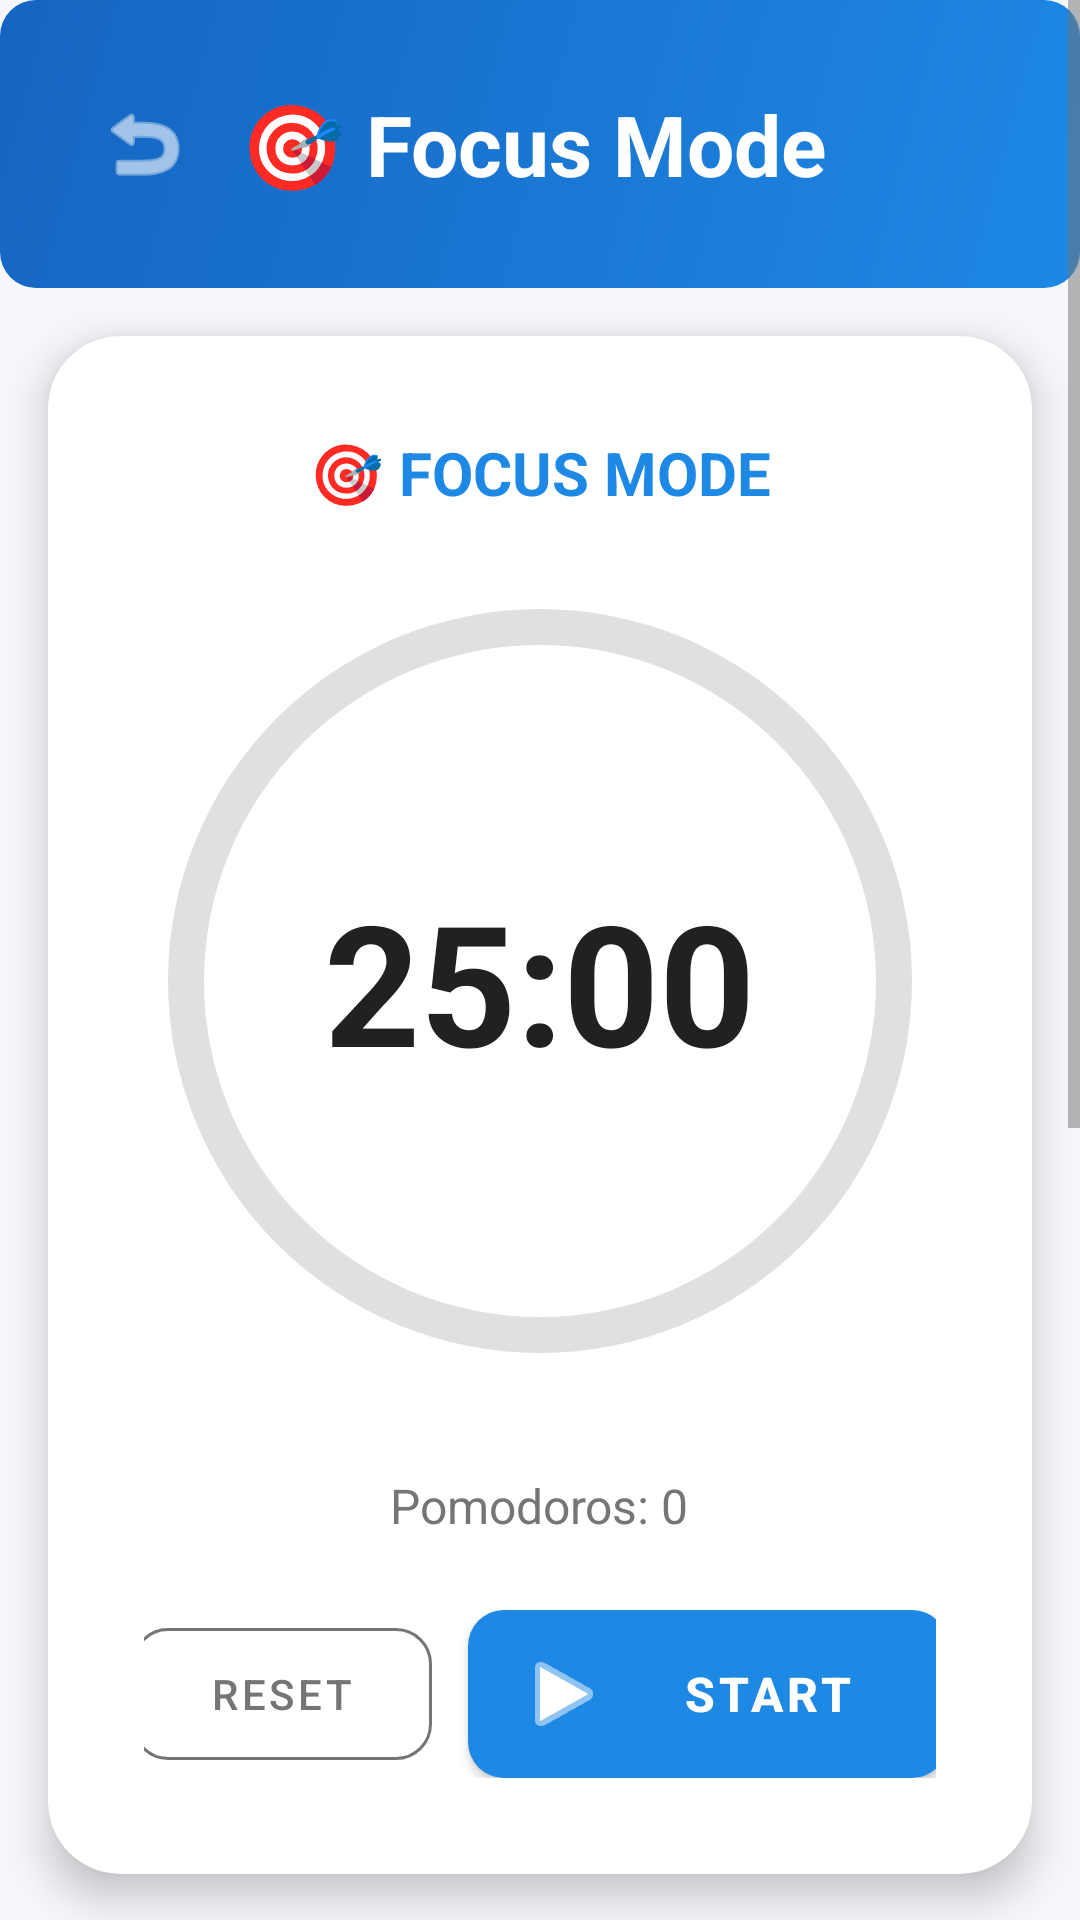

Where to tap for icons on this 1080x1920 app screen, as [x,y]:
revert: [145,144]
